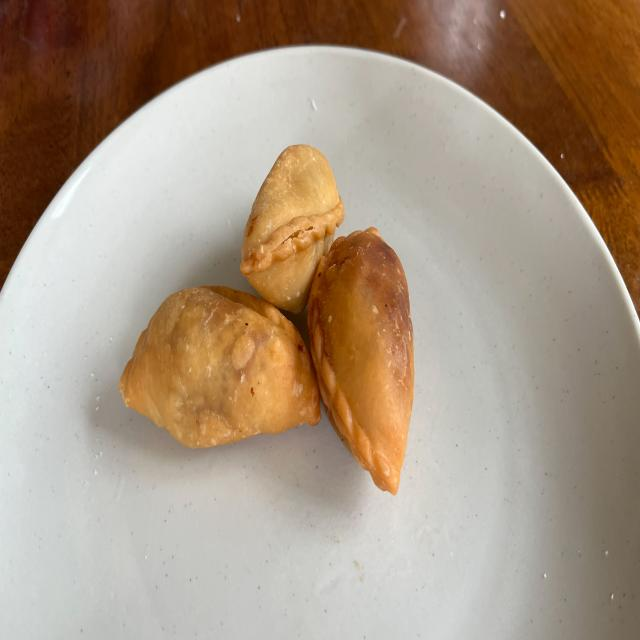karipap: (119, 287, 321, 447), (308, 227, 414, 496), (240, 144, 345, 313)
